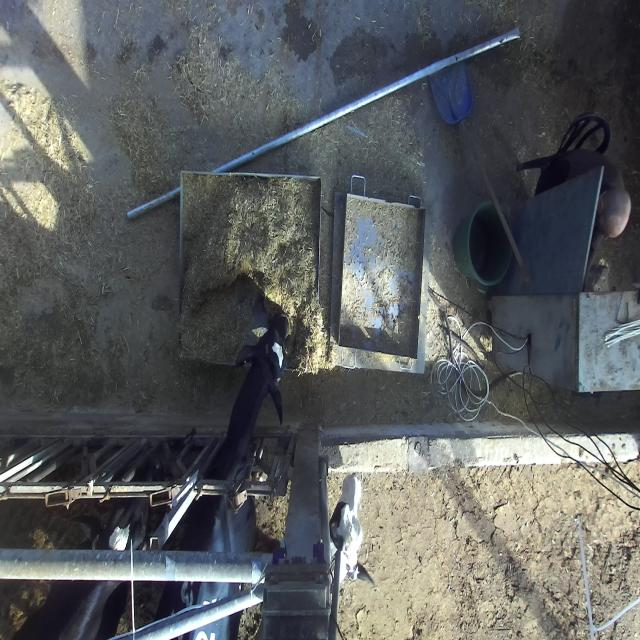cow: (233, 318, 288, 431), (328, 473, 375, 592)
